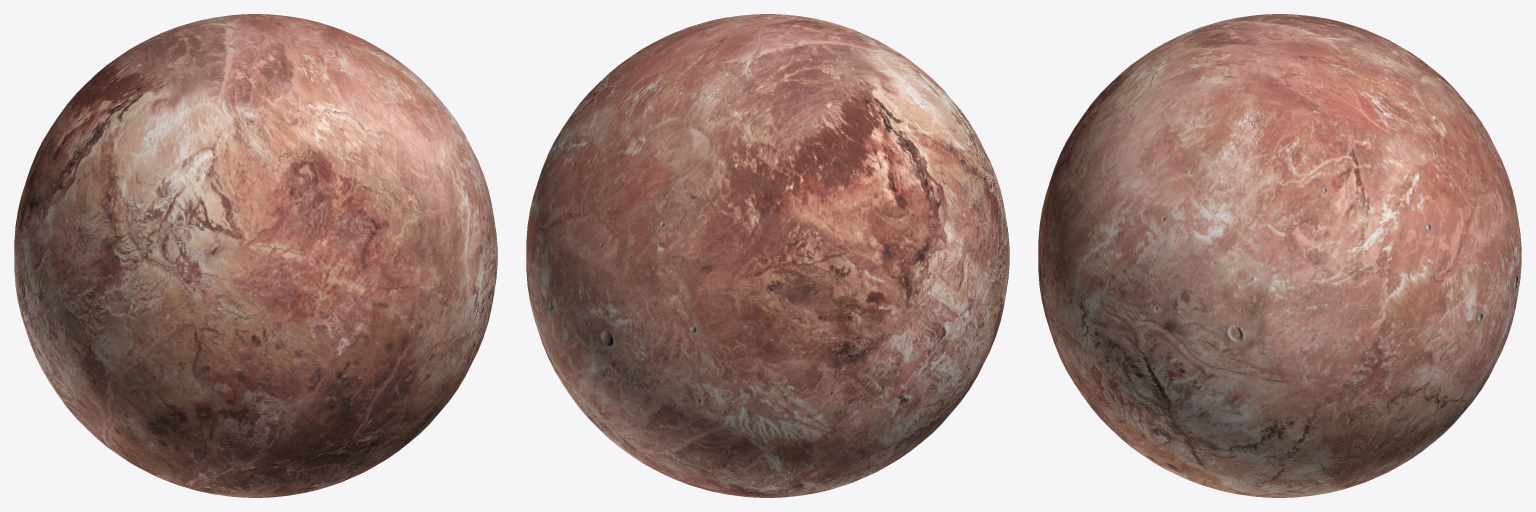
File: makemake.glb
The picture shows the model from 3 angles, left to right: view 1: azimuth 30°, elevation 25°; view 2: azimuth 150°, elevation 25°; view 3: azimuth 270°, elevation 25°; orthographic projection.
Visible parts, largest first — view 1: Sphere; view 2: Sphere; view 3: Sphere.
Part boxes in pixels (bbox=[...]): Sphere: bbox=[14, 14, 497, 497]; Sphere: bbox=[526, 14, 1009, 497]; Sphere: bbox=[1038, 14, 1521, 497].
Bounding box in the file's own units: 2 × 2 × 2.
1 material, 1 textured.
